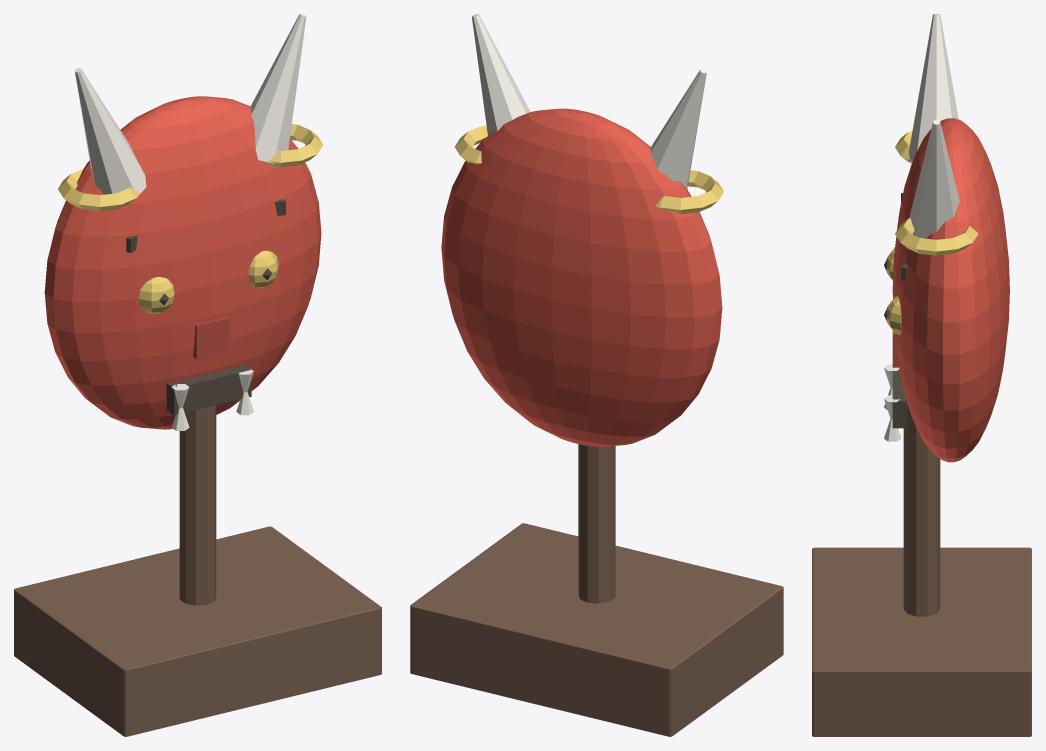
Rendered from oni_mask.glb.
The picture shows the model from 3 angles, left to right: view 1: azimuth 30°, elevation 25°; view 2: azimuth 150°, elevation 25°; view 3: azimuth 270°, elevation 25°; orthographic projection. The views are drawn at different scales.
Parts seen in each view (by area): view 1: oni_mask; view 2: oni_mask; view 3: oni_mask.
Part boxes in pixels (x1,y1,x2,y2): oni_mask: (14, 14, 381, 736); oni_mask: (410, 14, 783, 736); oni_mask: (812, 14, 1031, 736).
Bounding box in the file's own units: 0.4157 × 0.9157 × 0.3.
